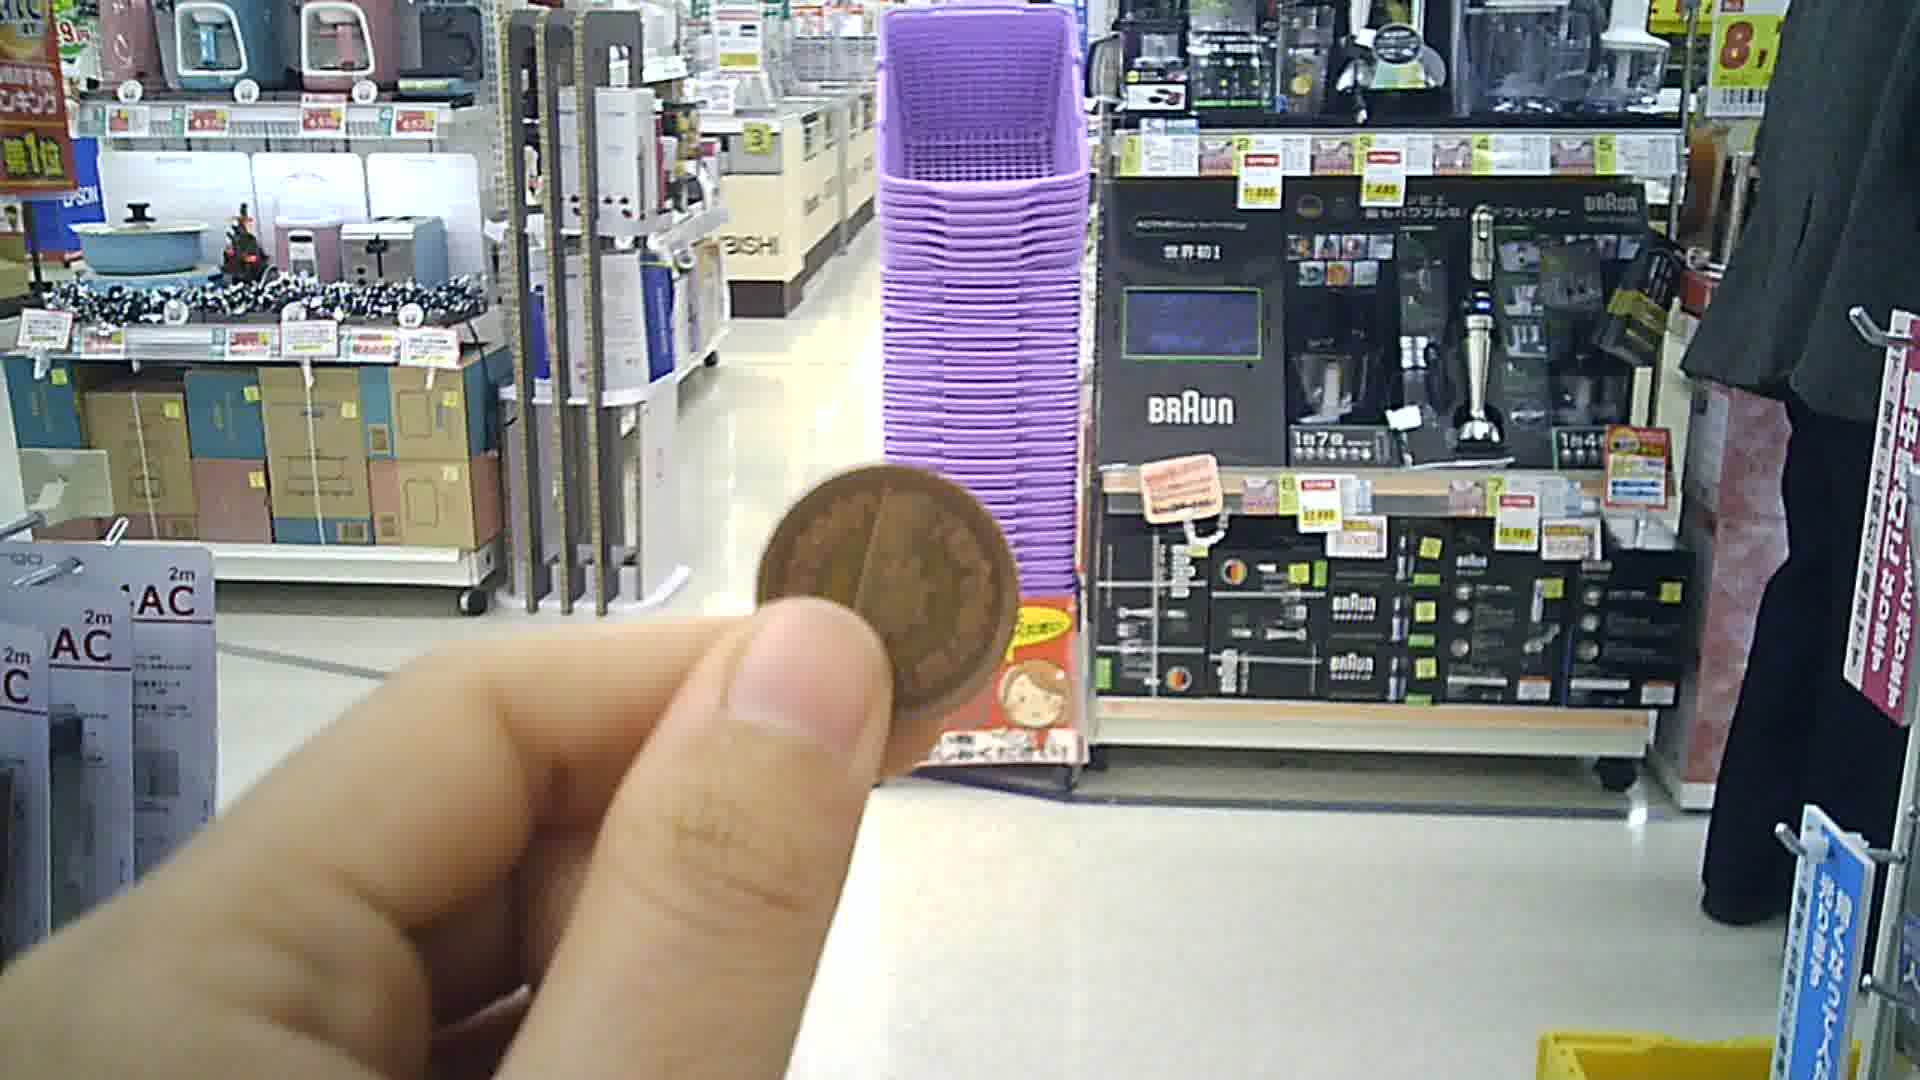10 Yen: (750, 467, 1021, 731)
